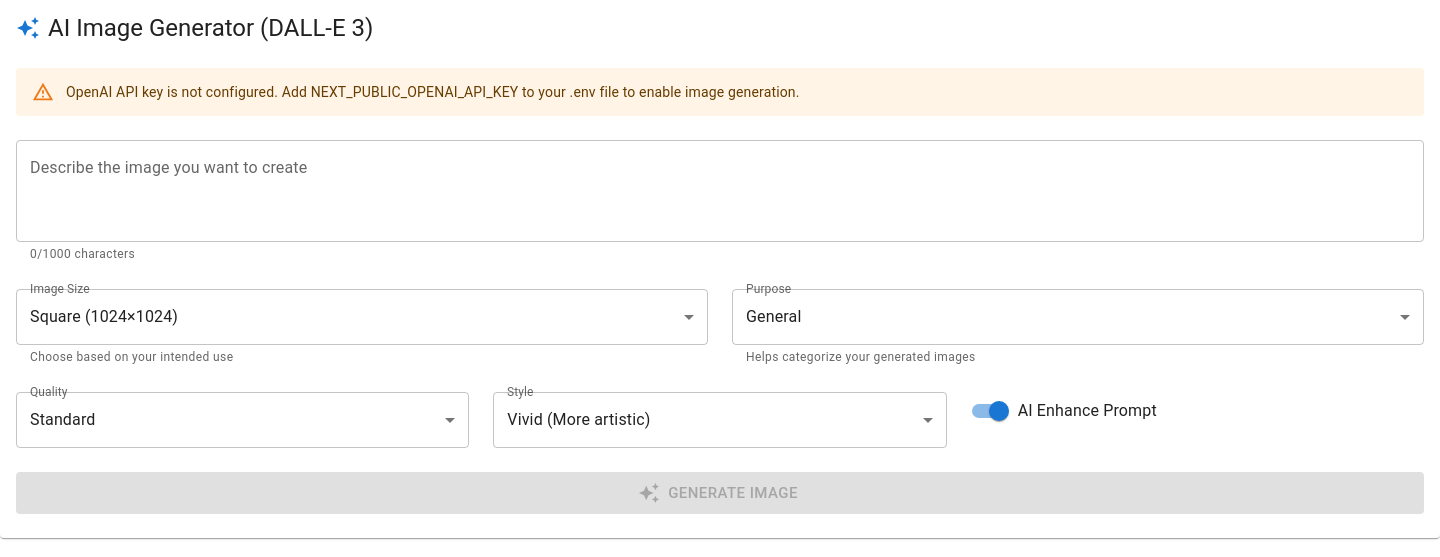
Test case: AIImageGenerator › Input Validation › shows character count
Type "Test prompt" into the text box labelled "Describe the image you want to create" at (720, 191), box [30, 156, 1410, 226]
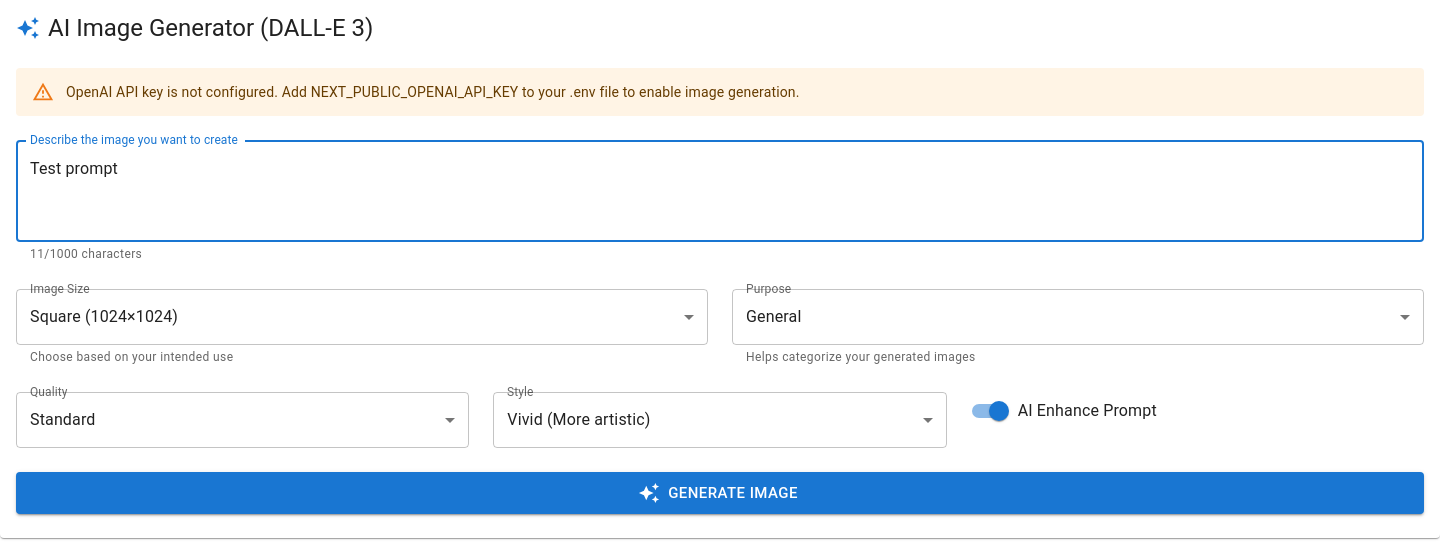
Expected: the text "11/1000 characters" is shown, [30, 247, 142, 261]
